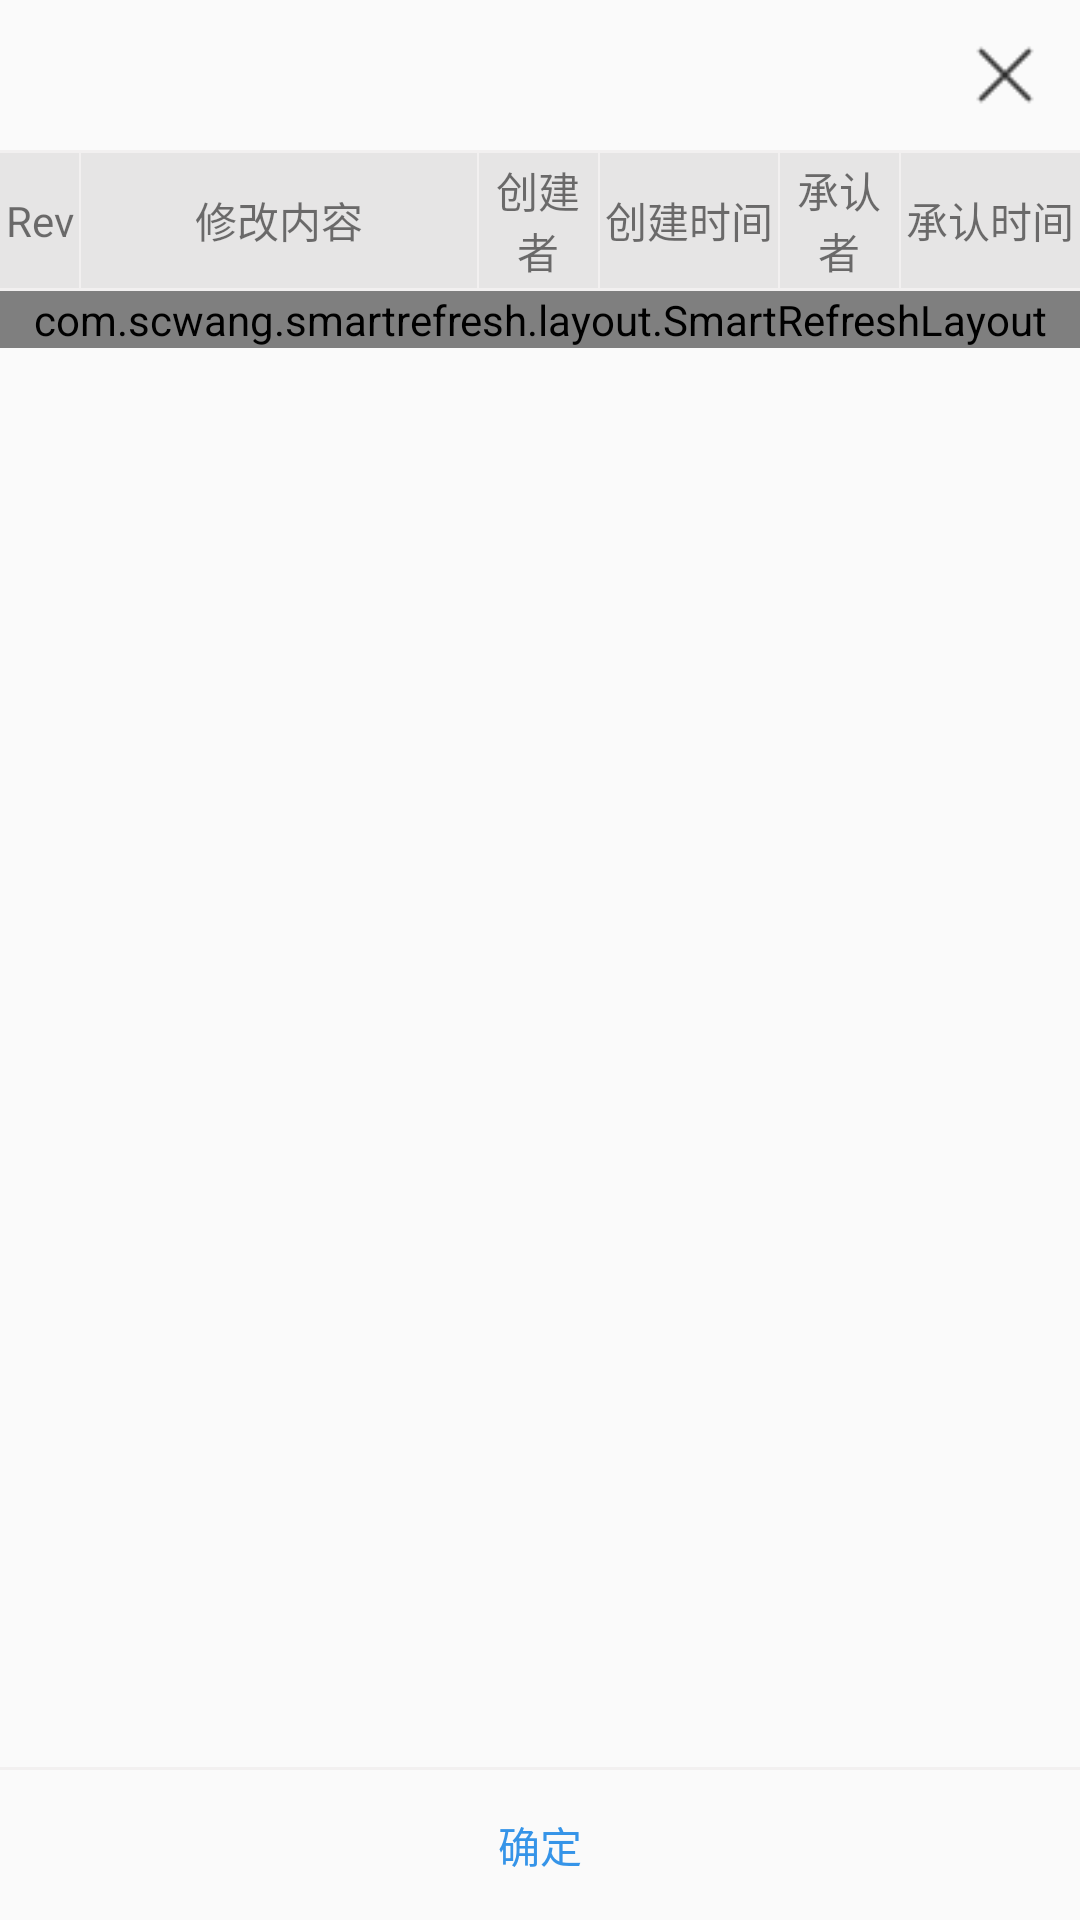

Screen size 1080*1920. Icon name, then its box in pixels as (x1, y1, x2, y2):
close change: (977, 47, 1033, 103)
